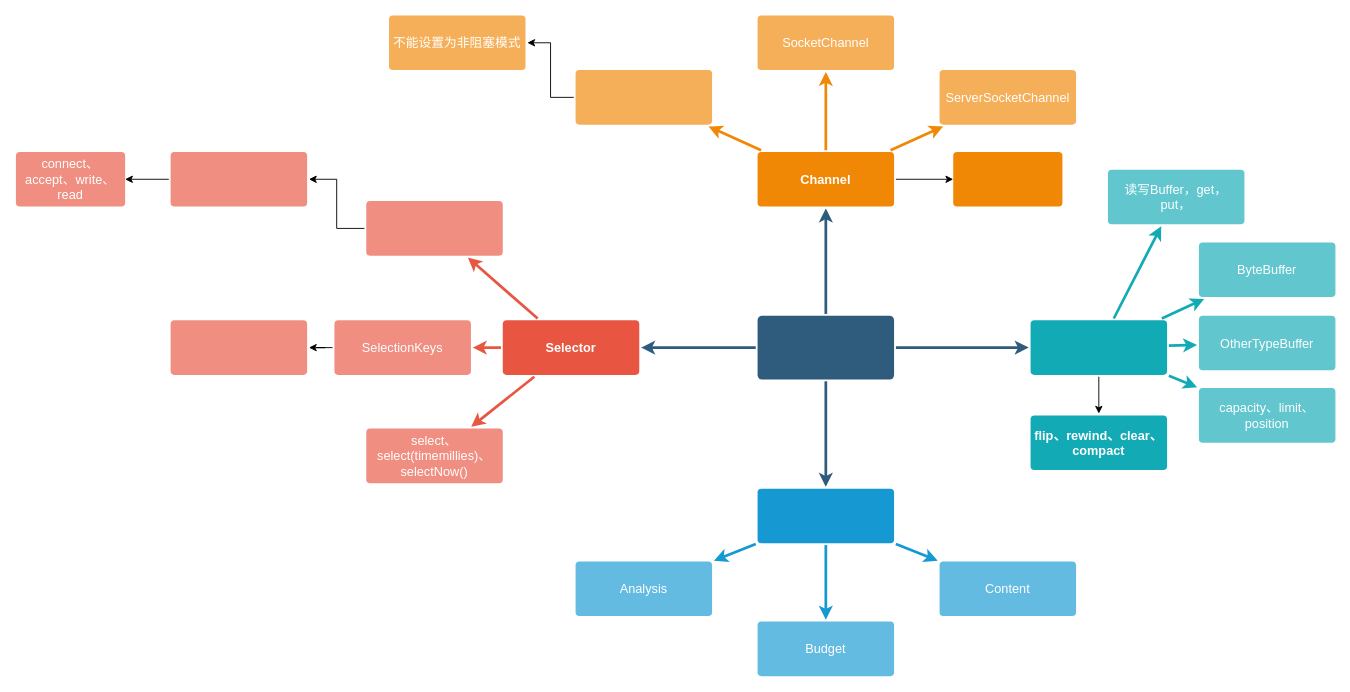
This 1350x692 diagram has some shape labels left out. Each missing label, with the centre of its shape:
Appeal: the point at 238,347
Buffer: the point at 1098,347
events: the point at 238,179
FileChannel: the point at 643,97
Gathering/scattering: the point at 1007,179
NIO: the point at 825,347
register channel: the point at 434,228
与BIO的区别: the point at 825,515
